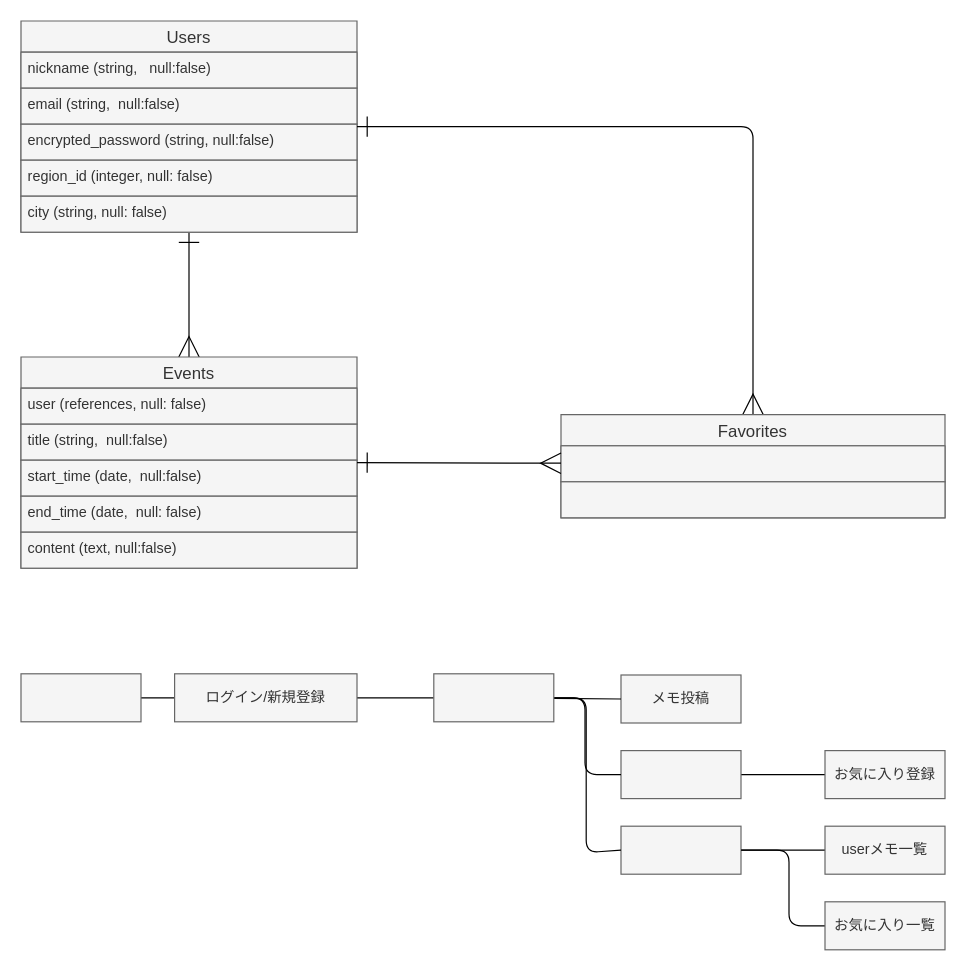
This 966x971 diagram has some shape labels left out. The shapes that lost their labels are listed below. From the top down, each one's centre as x and y in pixels, then its label:
[752,463]: post_id ( references, null: false)
[752,499]: user_id ( references, null:false)
[80,697]: トップページ
[493,697]: userトップ
[680,774]: メモ一覧
[680,849]: ユーザー情報
